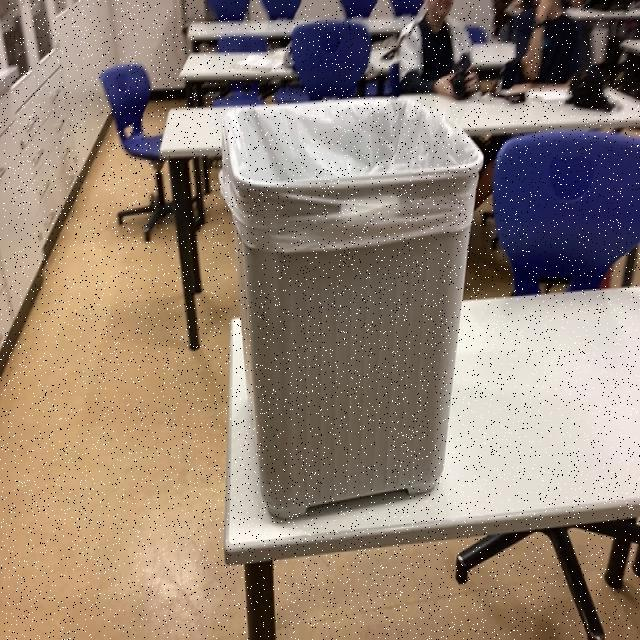garbage container: (209, 52, 519, 544)
